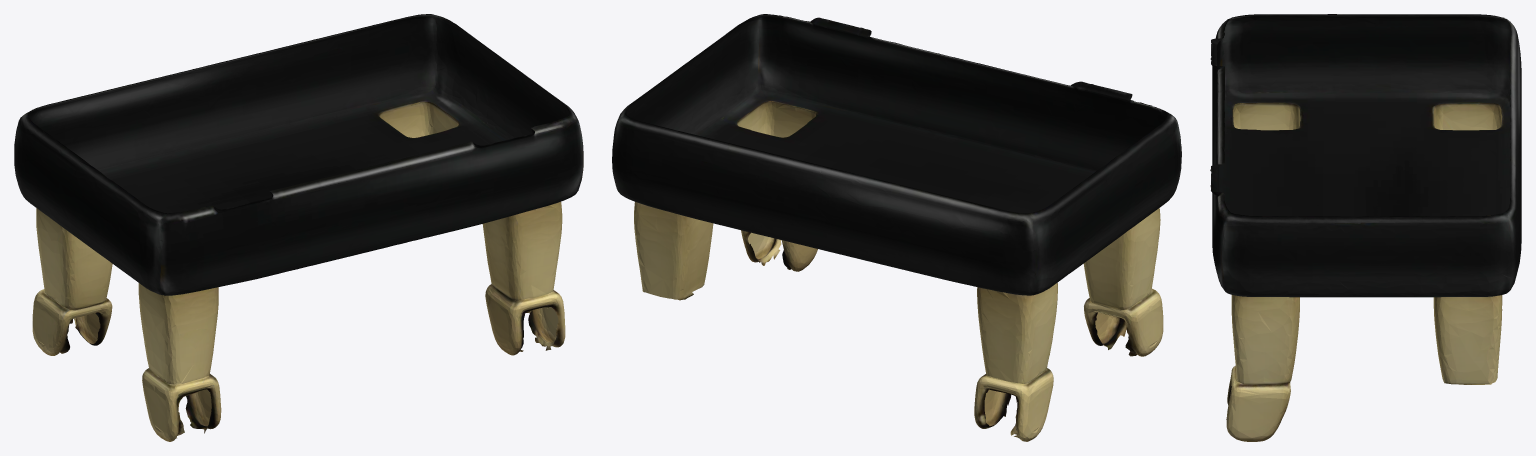
The picture shows the model from 3 angles, left to right: view 1: azimuth 30°, elevation 25°; view 2: azimuth 150°, elevation 25°; view 3: azimuth 270°, elevation 25°; orthographic projection.
Parts seen in each view (by area): view 1: source_surface_0; view 2: source_surface_0; view 3: source_surface_0.
Boxes of the visible parts, <box> form: source_surface_0: <box>14,14,583,441</box>; source_surface_0: <box>612,14,1181,441</box>; source_surface_0: <box>1210,14,1521,441</box>.
Bounding box in the file's own units: 0.18 × 0.0932 × 0.1121.
Materials: 1 (1 with a texture image).
